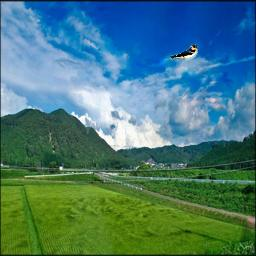Swallow: (164, 44, 198, 61)
